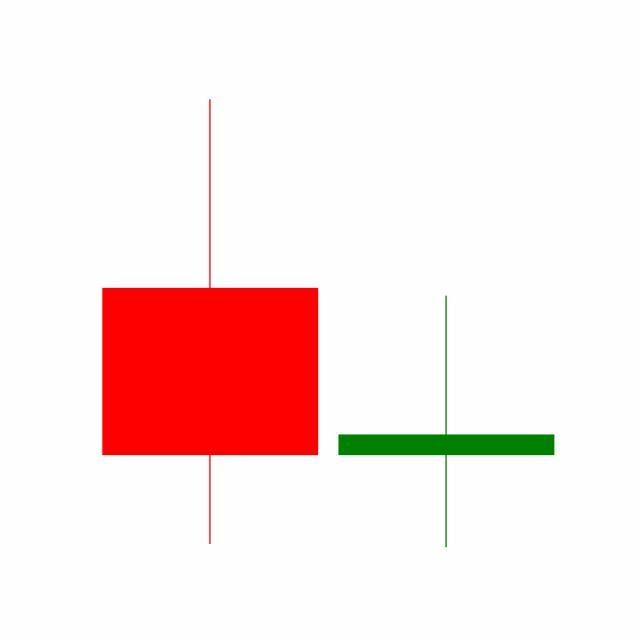Spinning Top: (328, 293, 566, 551)
